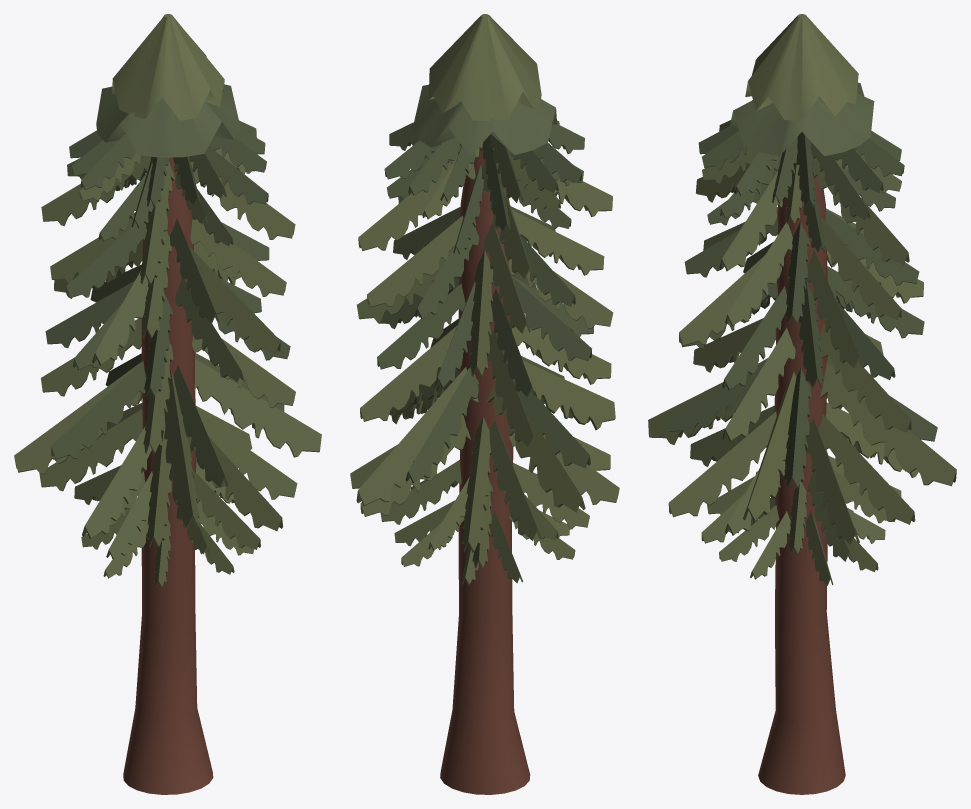
File: detailedtree (1).fbx
3 views of the same model, side by side, from view 1: azimuth 30°, elevation 25°; view 2: azimuth 150°, elevation 25°; view 3: azimuth 270°, elevation 25° (orthographic).
Visible parts, largest first — view 1: pCube4 (×18), pCube5 (×16), trunk, pCube3 (×11), pCylinder6, pCube6 (×7), pCylinder5; view 2: pCube6 (×20), pCube4 (×16), trunk, pCube5 (×9), pCube3 (×12), pCylinder6, pCylinder5; view 3: pCube3 (×18), pCube6 (×14), pCube5 (×17), trunk, pCylinder6, pCylinder5, pCube4 (×4).
Boxes of the visible parts, x1=… form: pCube4 (×18): x1=14, y1=137, x2=266, y2=559; pCube5 (×16): x1=103, y1=146, x2=290, y2=587; trunk: x1=123, y1=156, x2=213, y2=794; pCube3 (×11): x1=71, y1=140, x2=321, y2=574; pCylinder6: x1=111, y1=14, x2=224, y2=120; pCube6 (×7): x1=45, y1=134, x2=200, y2=504; pCylinder5: x1=96, y1=84, x2=240, y2=157; pCube6 (×20): x1=356, y1=124, x2=584, y2=568; pCube4 (×16): x1=482, y1=150, x2=619, y2=583; trunk: x1=440, y1=148, x2=530, y2=794; pCube5 (×9): x1=384, y1=122, x2=615, y2=559; pCube3 (×12): x1=350, y1=134, x2=558, y2=524; pCylinder6: x1=428, y1=14, x2=541, y2=120; pCylinder5: x1=413, y1=84, x2=557, y2=156; pCube3 (×18): x1=719, y1=141, x2=895, y2=579; pCube6 (×14): x1=805, y1=157, x2=956, y2=585; pCube5 (×17): x1=648, y1=132, x2=904, y2=543; trunk: x1=758, y1=176, x2=845, y2=794; pCylinder6: x1=745, y1=14, x2=858, y2=120; pCylinder5: x1=729, y1=82, x2=874, y2=156; pCube4 (×4): x1=702, y1=131, x2=885, y2=543.
Bounding box in the file's own units: 9.59 × 27.6 × 10.17.
